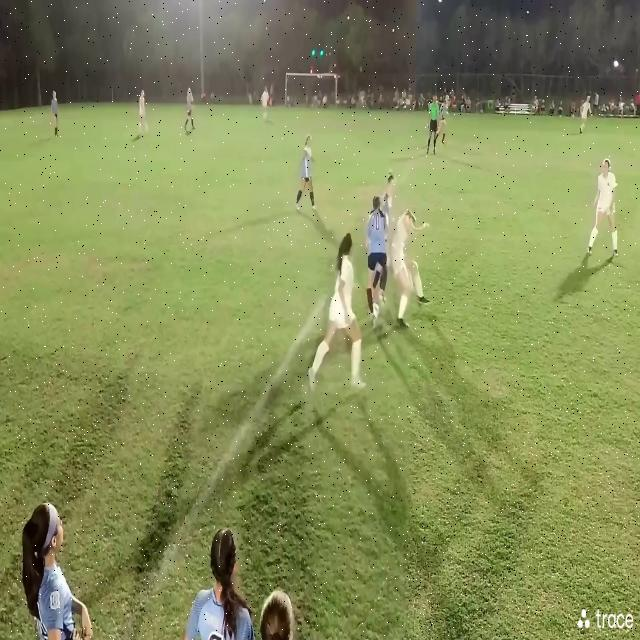Ball: (367, 300, 381, 326)
Referee: (424, 95, 442, 156)
TEAM 1: (17, 496, 97, 640), (188, 521, 257, 640), (364, 197, 391, 334), (294, 137, 318, 216), (183, 85, 196, 134), (50, 90, 61, 141), (442, 95, 449, 146)
TEAM 2: (311, 235, 367, 396), (395, 205, 432, 335), (590, 160, 616, 261), (138, 89, 150, 140), (580, 94, 592, 137), (262, 83, 273, 121)
